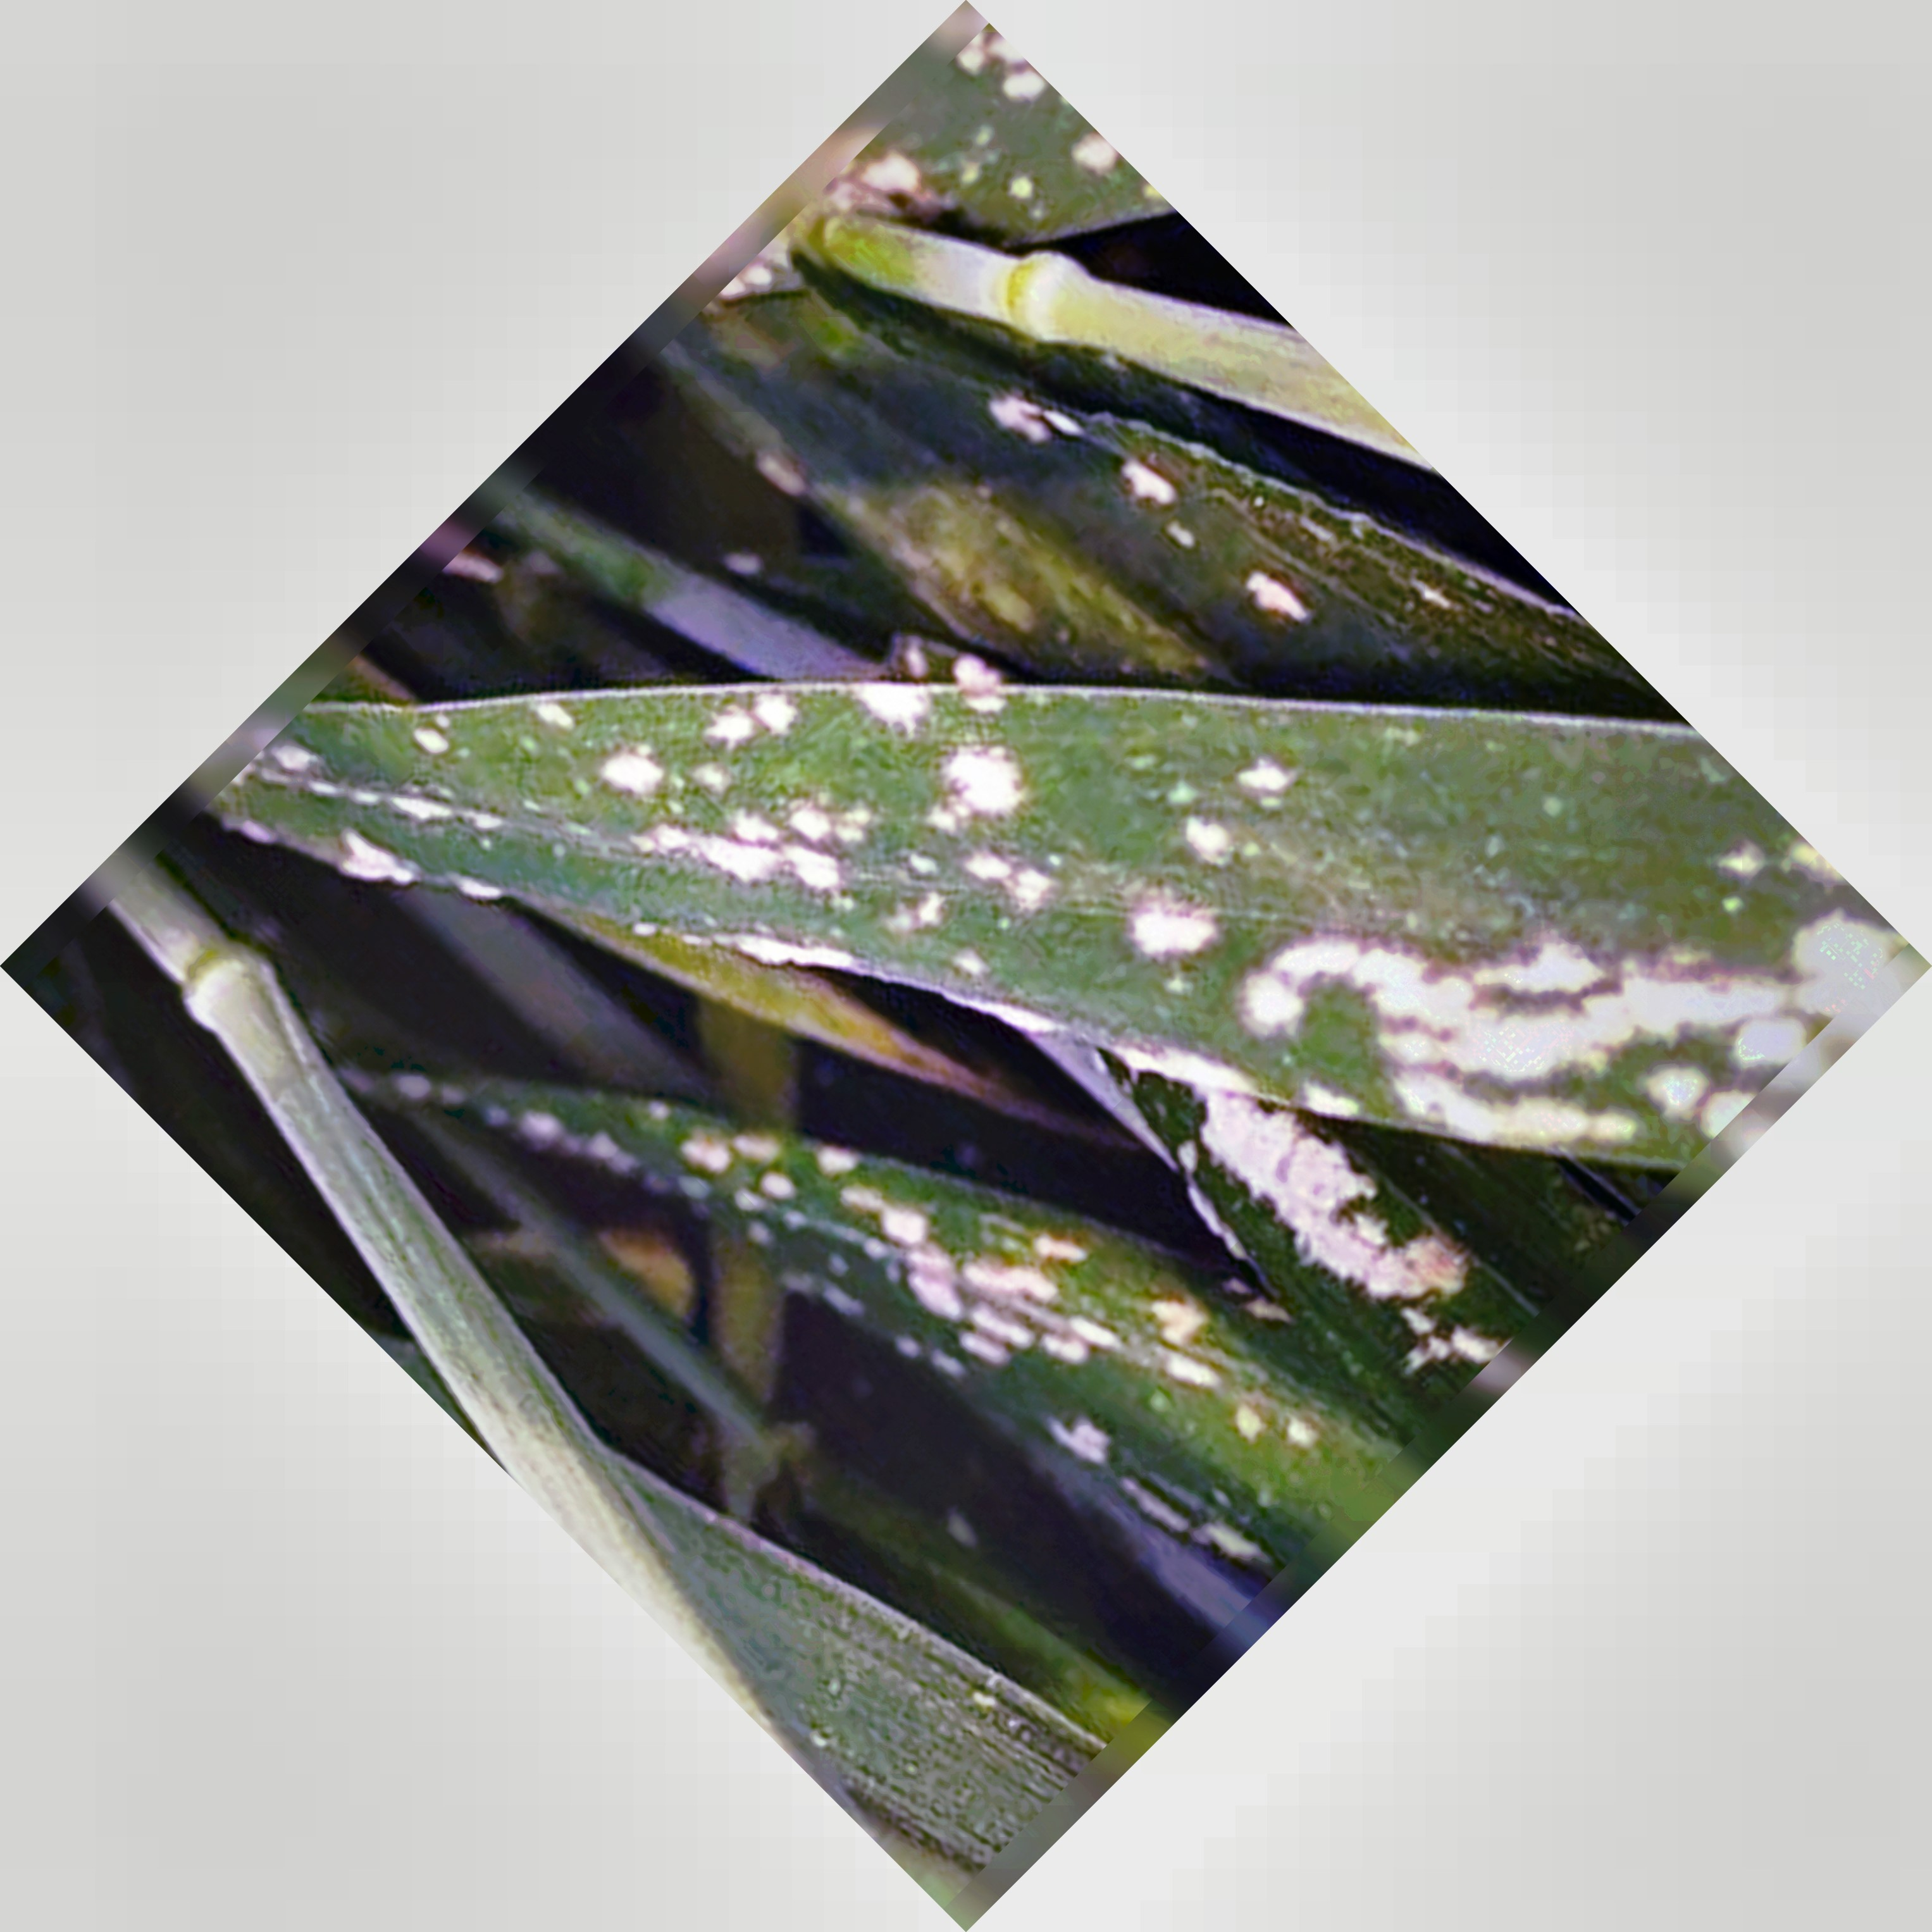Powdery Mildew: (380, 640, 1721, 1463)
